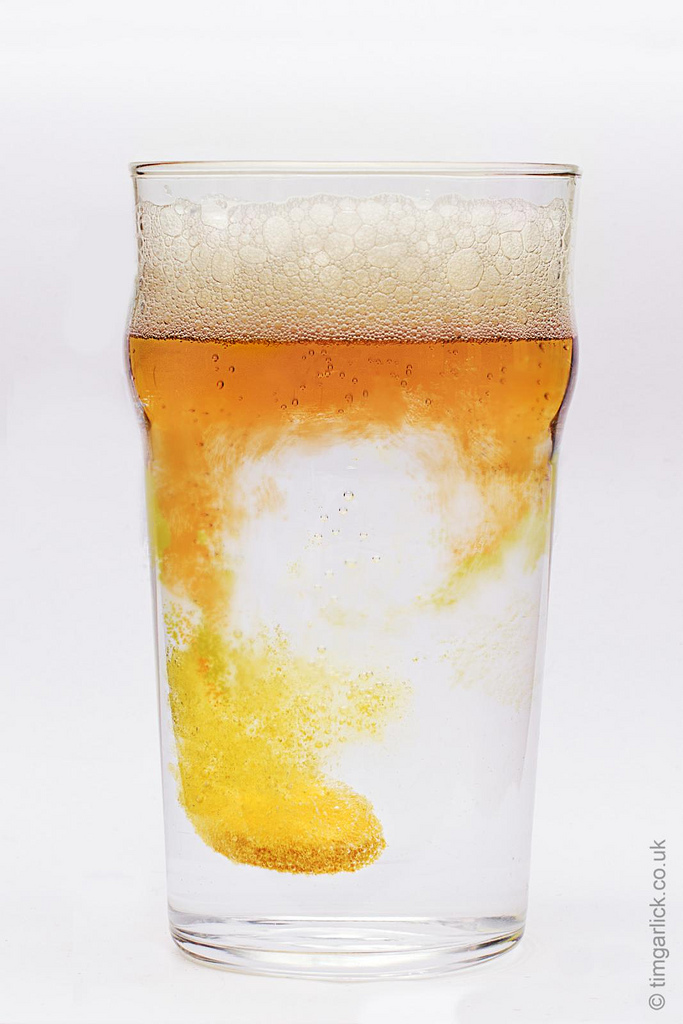glass of water: (116, 155, 563, 974)
